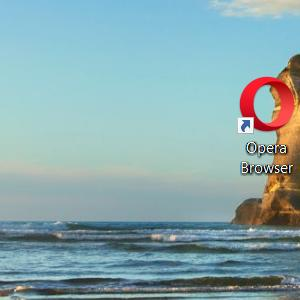opera: (237, 76, 294, 134)
